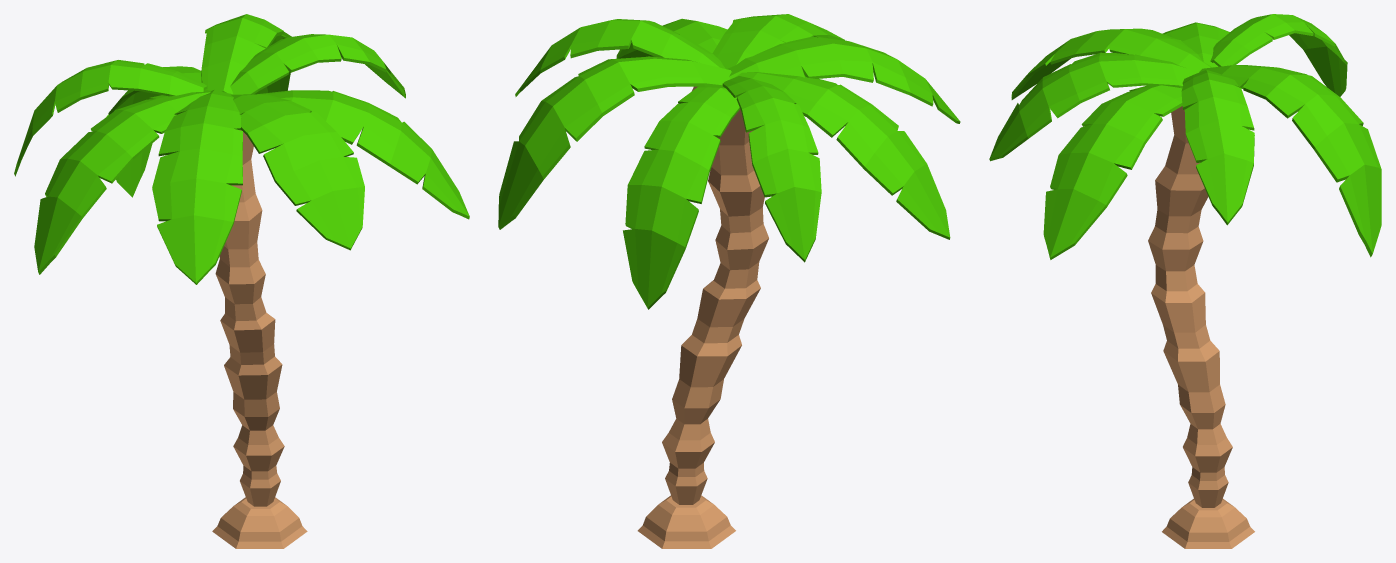
File: palmier2.fbx
3 renders of one model, left to right at view 1: azimuth 30°, elevation 25°; view 2: azimuth 150°, elevation 25°; view 3: azimuth 270°, elevation 25°, orthographic. The views are drawn at different scales.
Parts seen in each view (by area): view 1: Plane, Cylinder.002; view 2: Plane, Cylinder.002; view 3: Plane, Cylinder.002.
Part boxes in pixels (x1,y1,x2,y2): Plane: (14, 14, 469, 284); Cylinder.002: (212, 130, 307, 548); Plane: (498, 14, 960, 309); Cylinder.002: (637, 86, 768, 548); Plane: (989, 14, 1381, 259); Cylinder.002: (1148, 106, 1254, 548).
Size of the model in its own units: 3357 by 3924 by 2947.
1 material, 1 textured.
